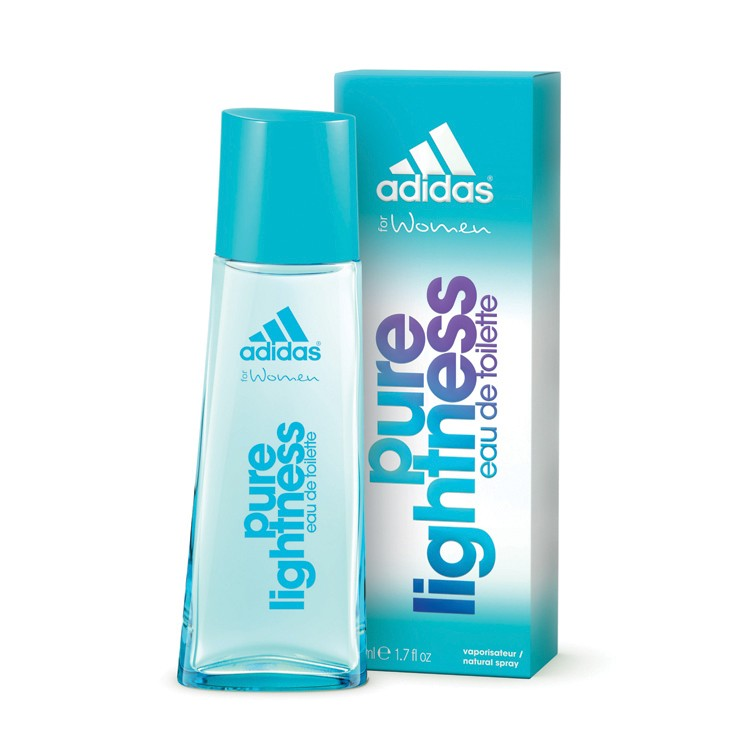Adidas: (373, 117, 499, 209), (237, 303, 327, 367)
